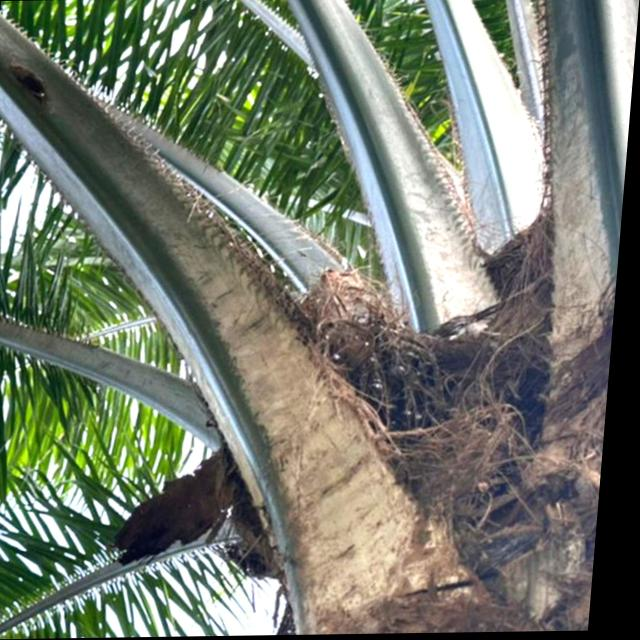unripe: (323, 308, 502, 490)
